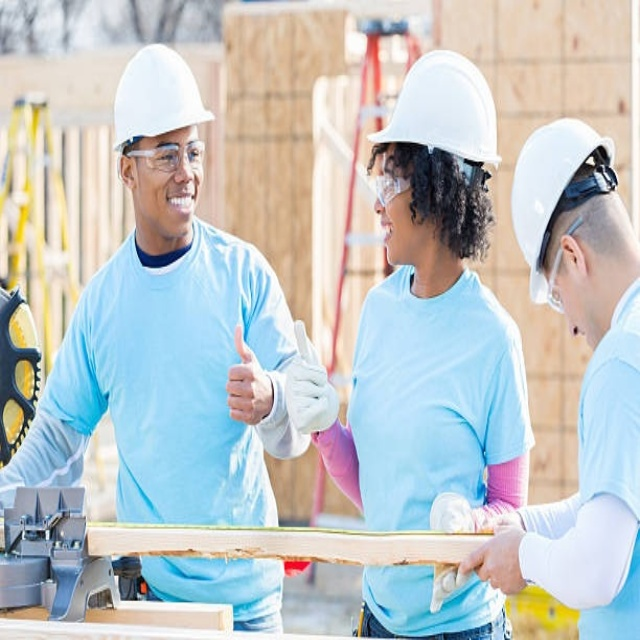Gafas: (127, 138, 209, 174), (543, 234, 564, 318), (374, 171, 411, 207)
Guantes: (285, 317, 342, 436)
Sin_guantes: (456, 517, 532, 598), (224, 322, 273, 428)
Sin_mascara: (163, 185, 199, 227), (376, 210, 403, 265), (568, 315, 599, 350)
